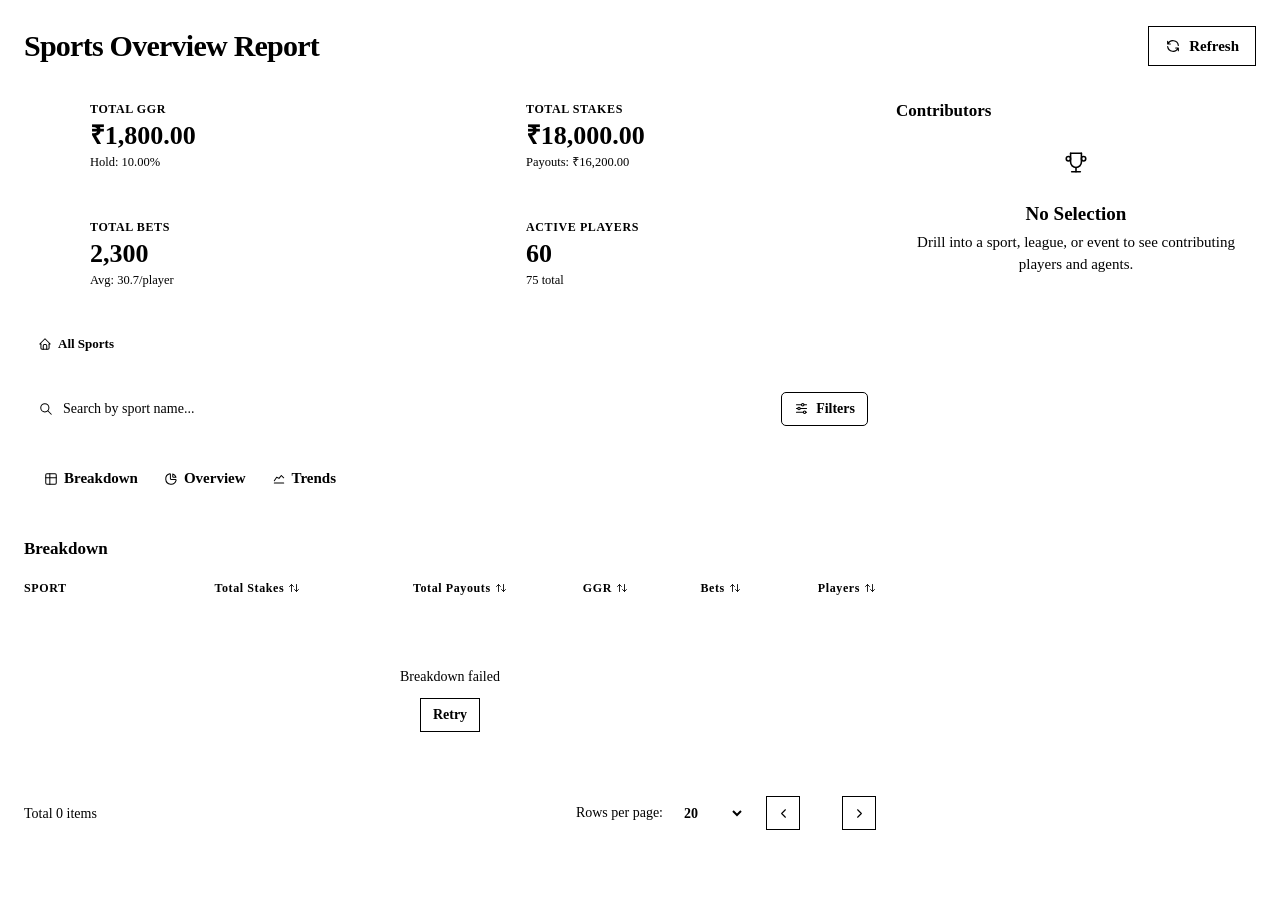
Test: SportsOverviewReport table › a failed table query shows its message; Retry and Refresh re-ask the totals, the trend and this table
Later steps or results of the test are not shown.
Expected: the text "Breakdown failed" is shown, [400,668,500,686]
Click the button "Retry".
click(450, 716)  # box [420,698,480,732]
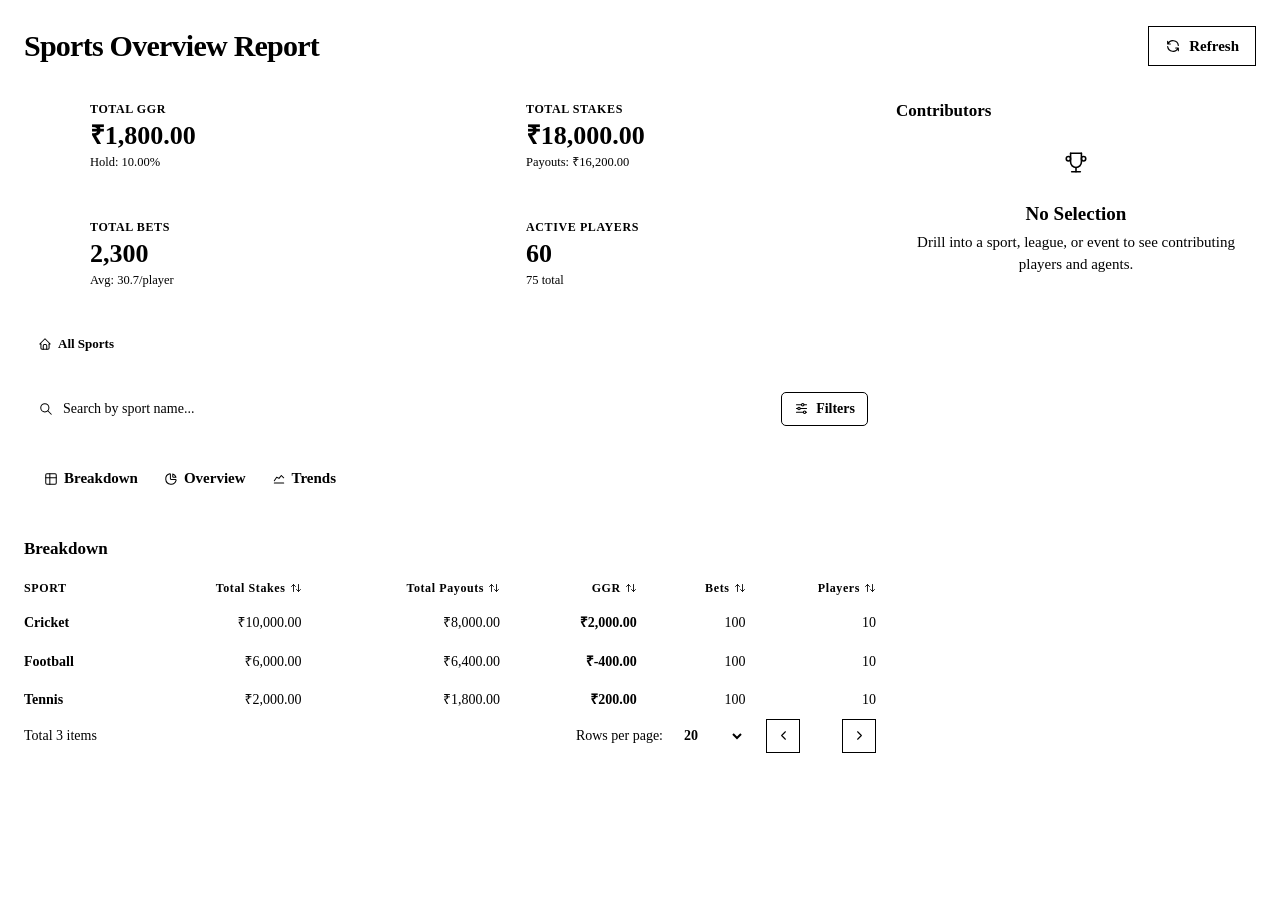
Now the text "Cricket" is shown, box [24,615,69,630]
